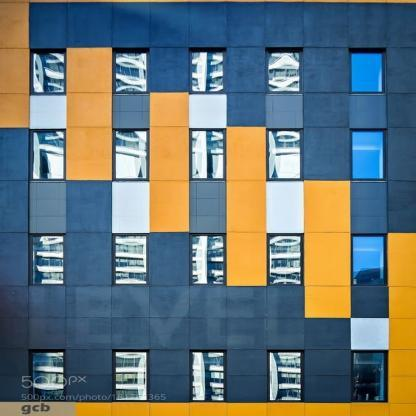Building Outline: (0, 0, 415, 414)
Facade: (0, 0, 415, 416)
Pillar: (304, 181, 350, 317), (227, 128, 266, 286), (67, 48, 112, 180), (149, 92, 188, 232), (387, 233, 416, 415), (0, 0, 30, 128)
Window: (115, 352, 147, 400), (270, 352, 302, 400), (115, 236, 147, 284), (270, 236, 302, 284), (115, 131, 147, 179), (269, 131, 301, 179), (353, 352, 384, 400), (352, 131, 383, 179), (353, 236, 384, 284), (33, 131, 64, 179), (33, 236, 64, 284), (33, 352, 64, 400), (192, 352, 223, 400), (192, 236, 223, 284), (192, 131, 223, 179), (351, 53, 383, 93), (115, 53, 147, 93), (33, 53, 64, 93), (192, 53, 223, 93), (269, 53, 300, 93)
